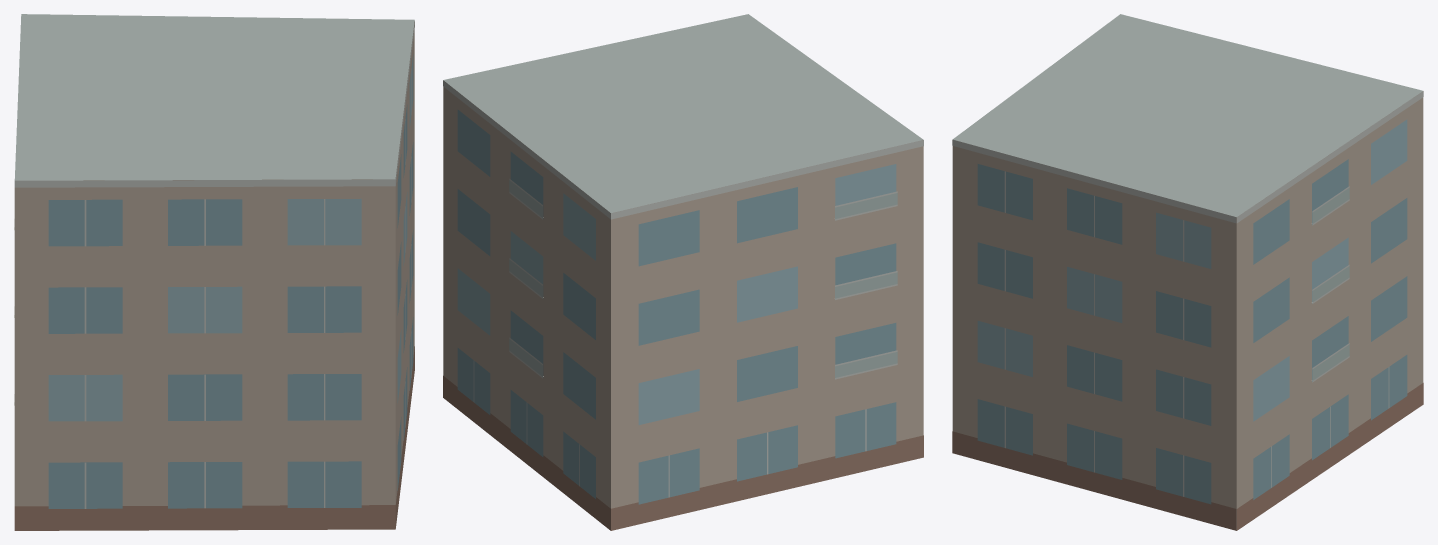
The model's file is survey-upis-32734283.glb.
3 renders of one model, left to right at view 1: azimuth 30°, elevation 25°; view 2: azimuth 150°, elevation 25°; view 3: azimuth 270°, elevation 25°, orthographic. The views are drawn at different scales.
Visible parts, largest first — view 1: survey-upis-32734283.tmp; view 2: survey-upis-32734283.tmp; view 3: survey-upis-32734283.tmp.
Boxes of the visible parts, x1,y1,x2,y2 form: survey-upis-32734283.tmp: (14,14,414,530); survey-upis-32734283.tmp: (443,14,923,530); survey-upis-32734283.tmp: (952,14,1423,530).
Size of the model in its own units: 16.96 by 12.2 by 16.61.
